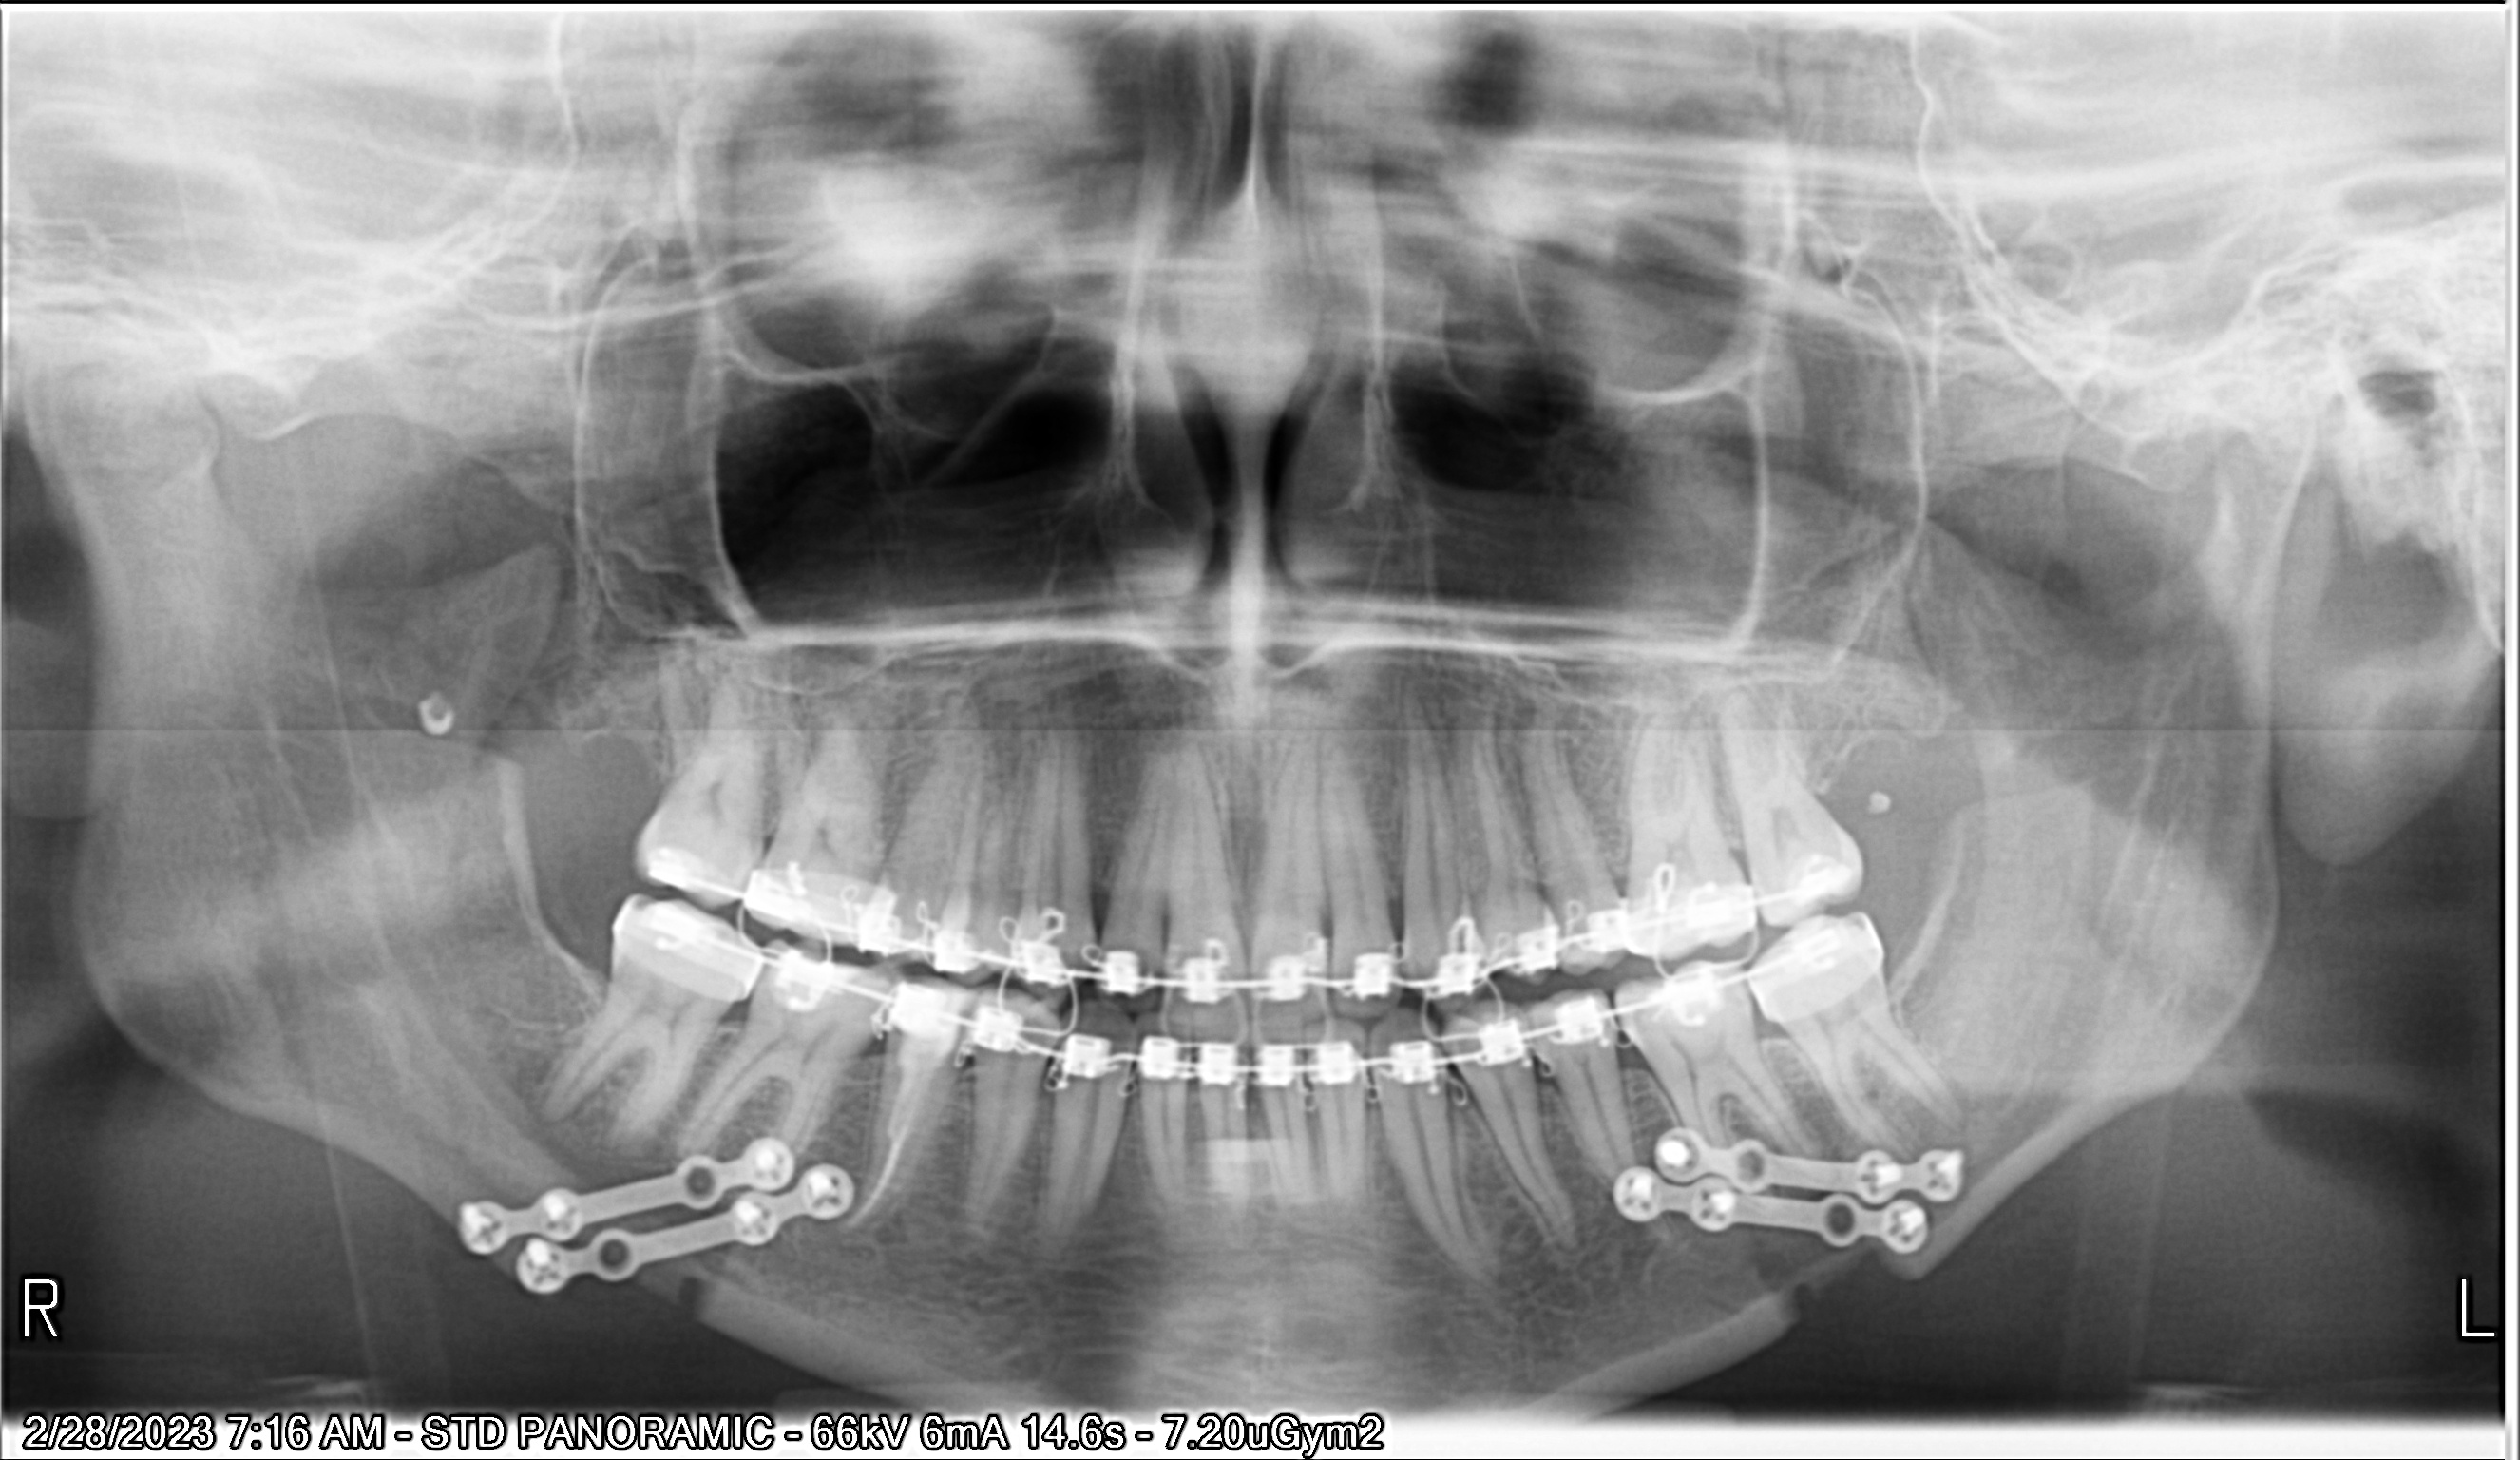END: (849, 1046, 945, 1231)
ORD: (1039, 1005, 1540, 1097), (1079, 911, 1556, 994), (1568, 855, 1853, 975), (625, 829, 905, 942), (601, 923, 854, 1006), (848, 965, 1068, 1053), (1725, 907, 1890, 1025), (1551, 968, 1725, 1053), (907, 907, 1085, 973)
SRD: (438, 1131, 860, 1300), (1586, 1116, 1975, 1269)
